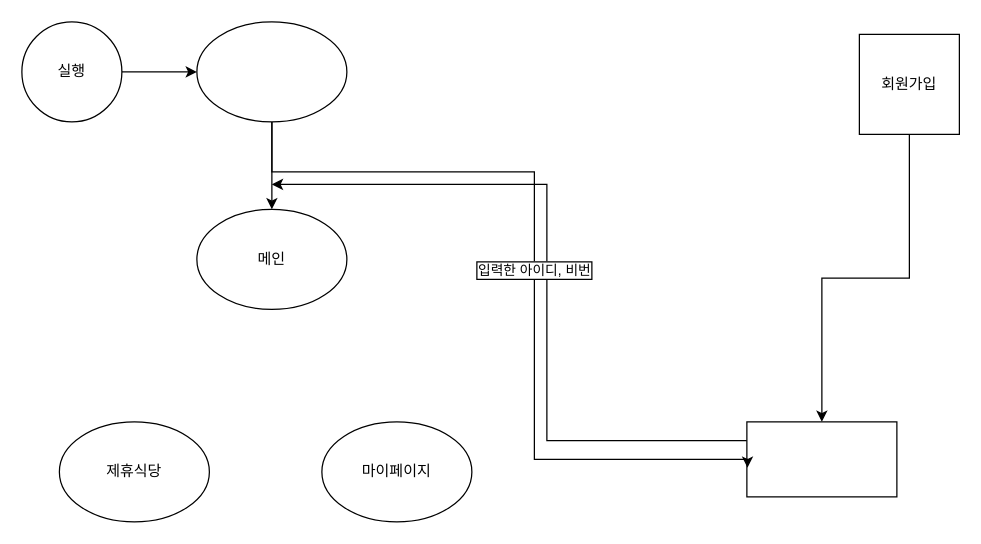
Some shapes in this 981 by 544 pixel diagram are drawn without their labels. Here are the shapes that lost their labels. From the top down, the centre of each, then its label:
point (271, 71): 로그인
point (821, 459): 데이터베이스
